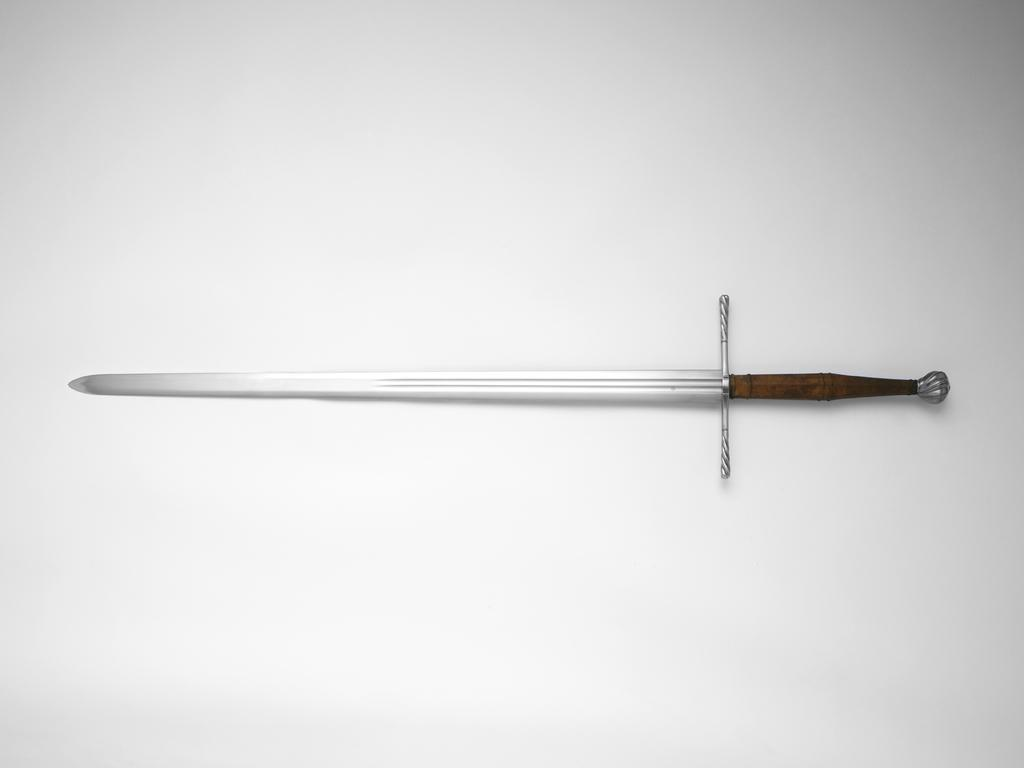Sword: (66, 295, 949, 476)
